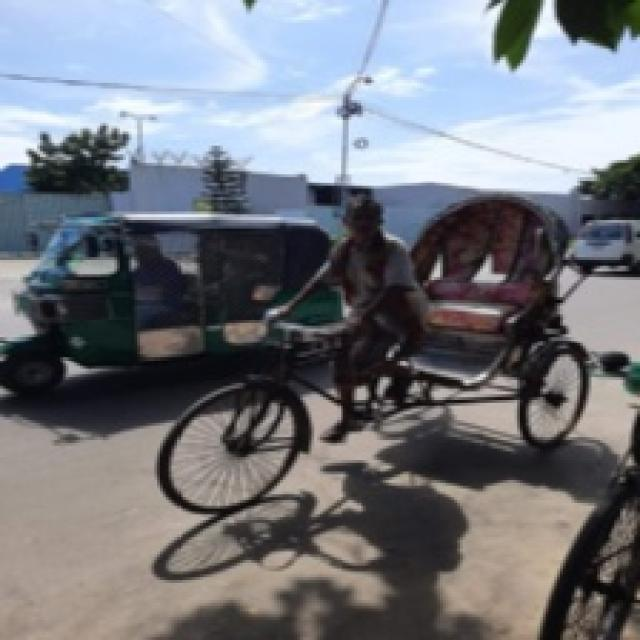rickshaw: (135, 194, 575, 509)
